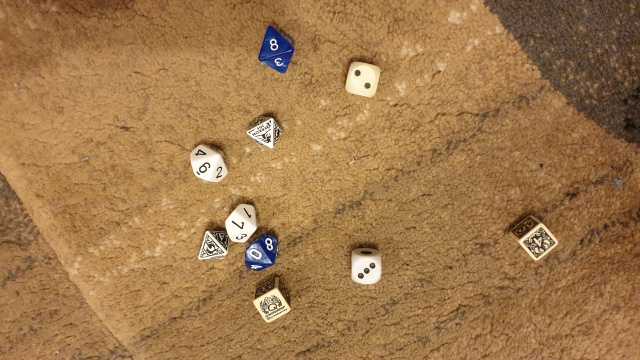d10-10: (241, 233, 279, 275)
d10-6: (186, 135, 229, 187)
d10-7: (221, 202, 258, 243)
d10-8: (257, 23, 294, 75)
d6-2: (343, 58, 383, 99)
d6-3: (347, 244, 388, 288)
d6p-4: (506, 212, 559, 264)
d6p-6: (249, 278, 297, 325)
d8p-1: (245, 112, 285, 151)
d8p-2: (194, 226, 229, 264)
